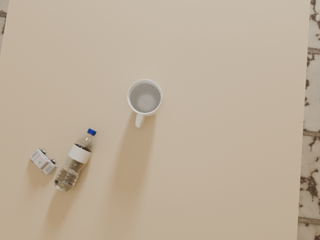bottle: (54, 128, 96, 192)
cup: (127, 79, 163, 128)
toy_car: (30, 148, 57, 175)
